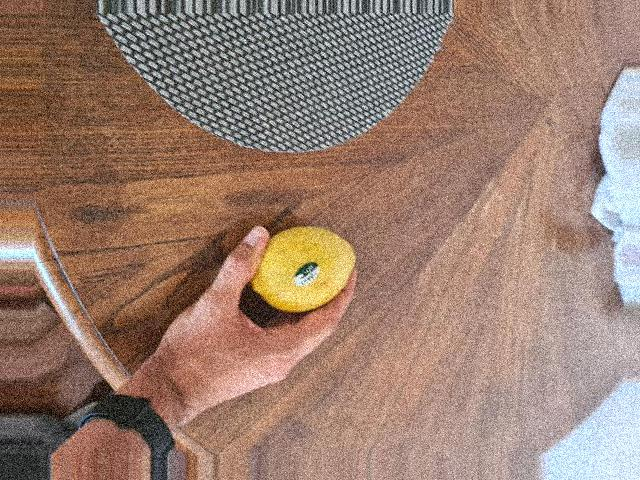lemon: (246, 228, 354, 312)
